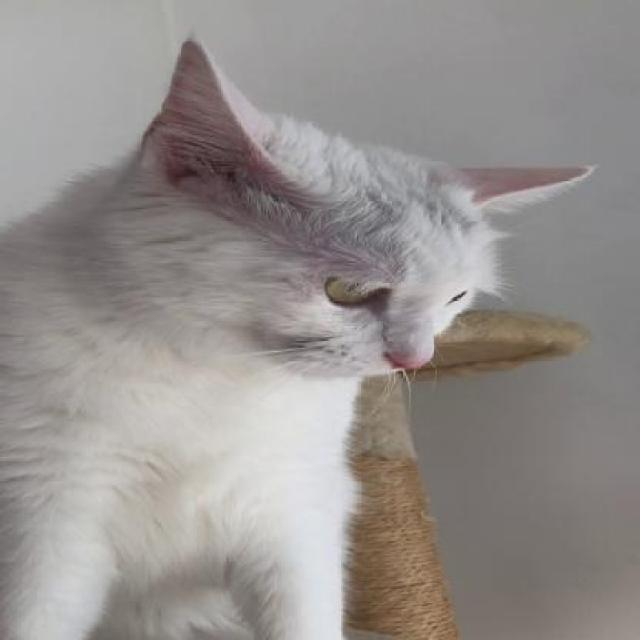cat-face: (128, 27, 594, 385)
